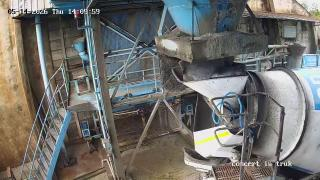cement_mixer_truck: (170, 65, 320, 180)
